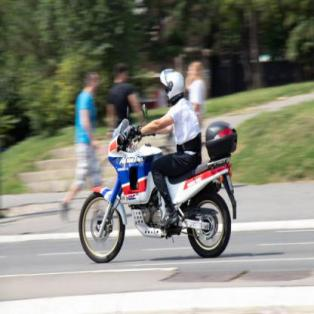Motocicleta: (76, 101, 236, 261)
